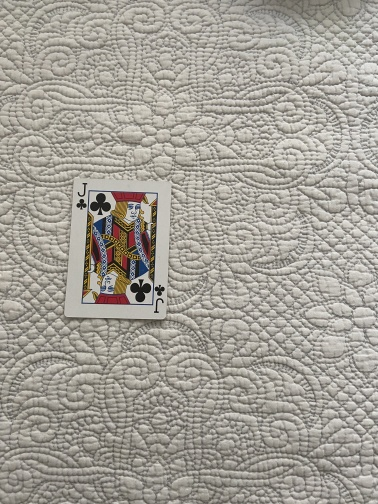jack: (64, 178, 173, 321)
